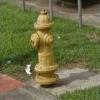a fire hydrant: (29, 12, 56, 80)
